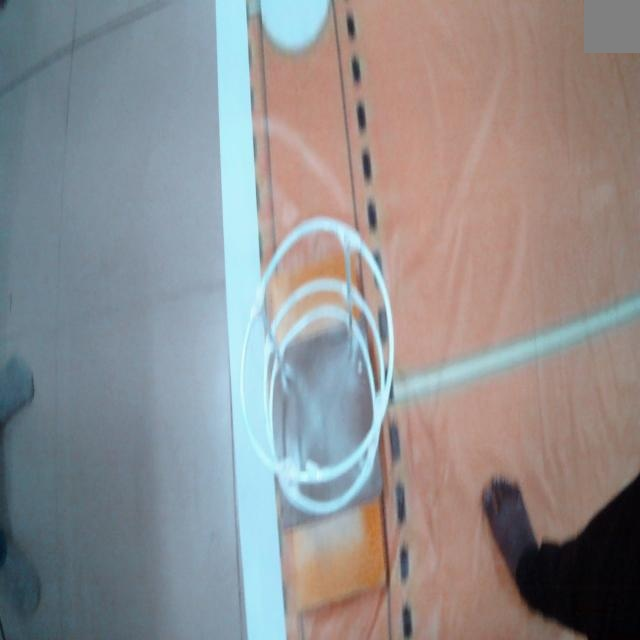silo: (245, 220, 392, 500)
